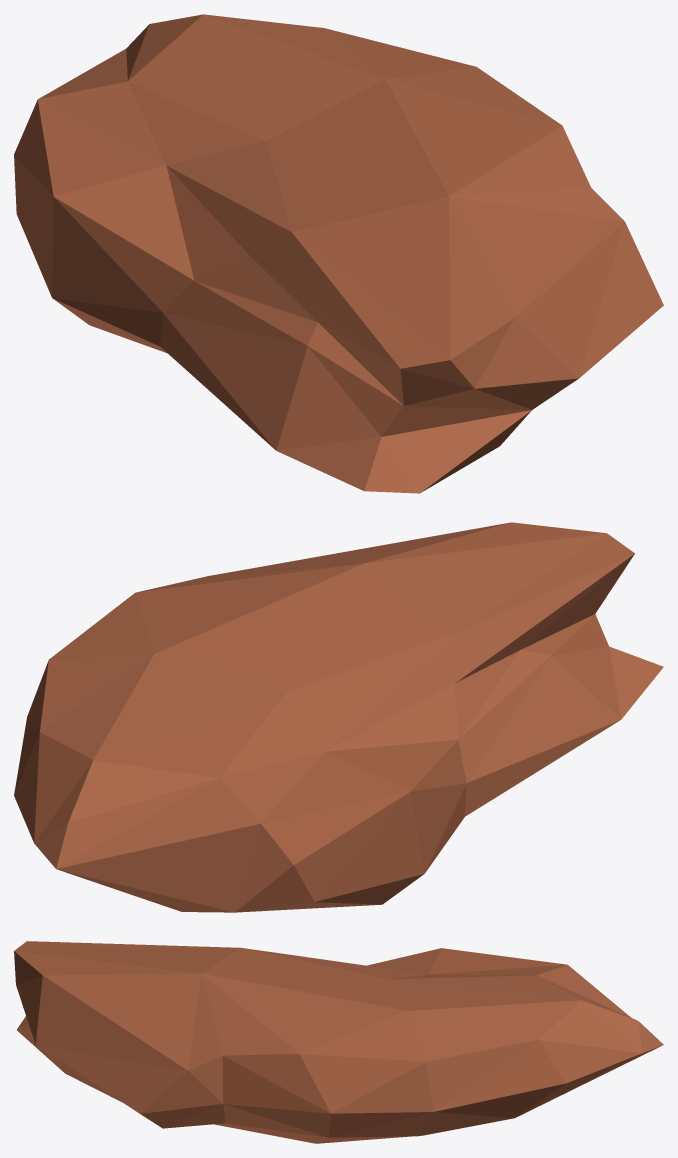
The model's file is medium_rock1.glb.
3 views of the same model, one above another, from view 1: azimuth 30°, elevation 25°; view 2: azimuth 150°, elevation 25°; view 3: azimuth 270°, elevation 25° (orthographic). The views are drawn at different scales.
Visible parts, largest first — view 1: medium_rock1; view 2: medium_rock1; view 3: medium_rock1.
Boxes of the visible parts, x1,y1,x2,y2 form: medium_rock1: [14, 14, 663, 493]; medium_rock1: [14, 522, 663, 912]; medium_rock1: [14, 941, 663, 1143].
Bounding box in the file's own units: 2.52 × 1.26 × 4.47.
